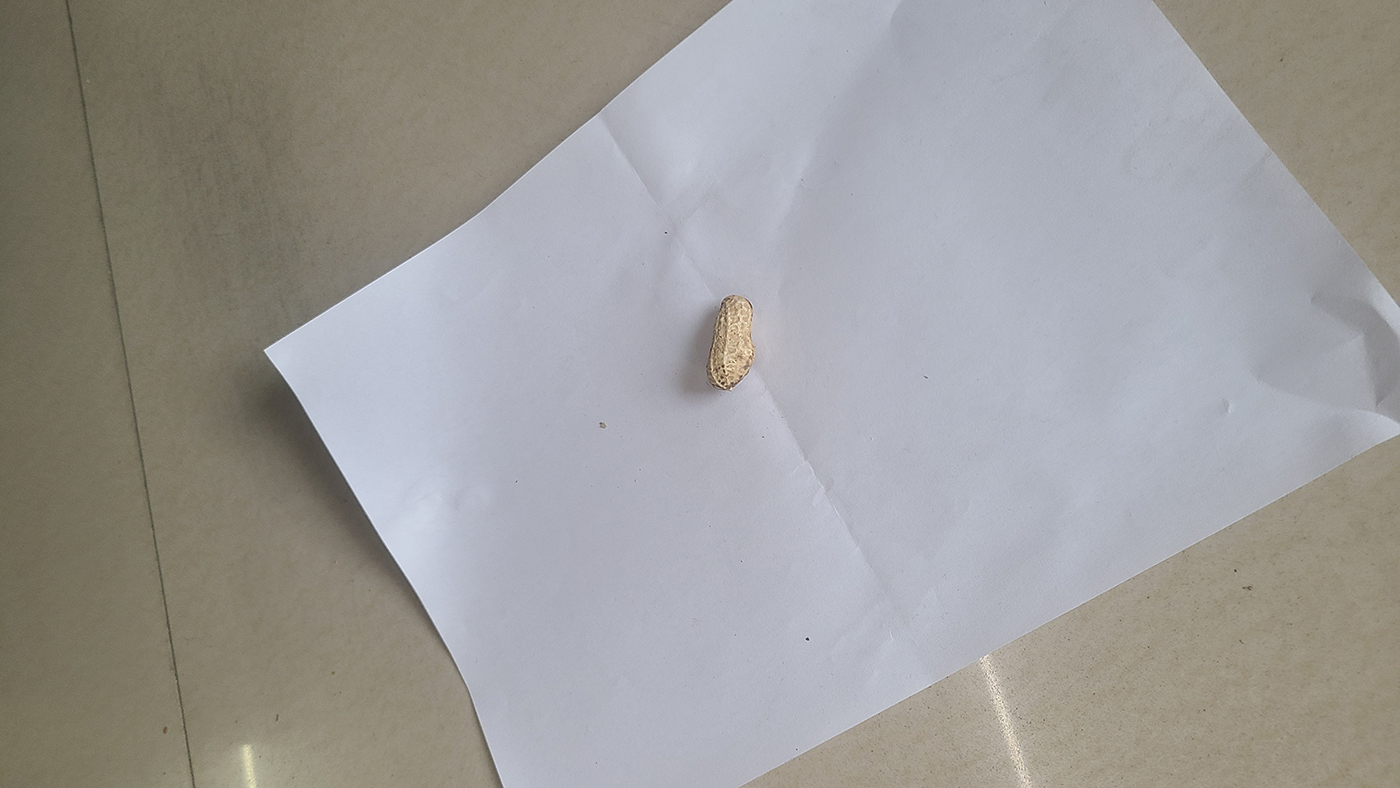h: (705, 295, 756, 391)
